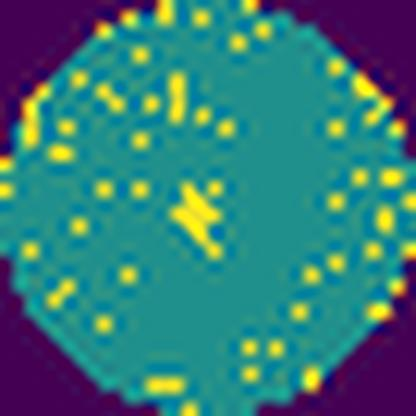Center: (172, 176, 230, 261)
